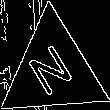N_SE: (25, 38, 81, 103)
